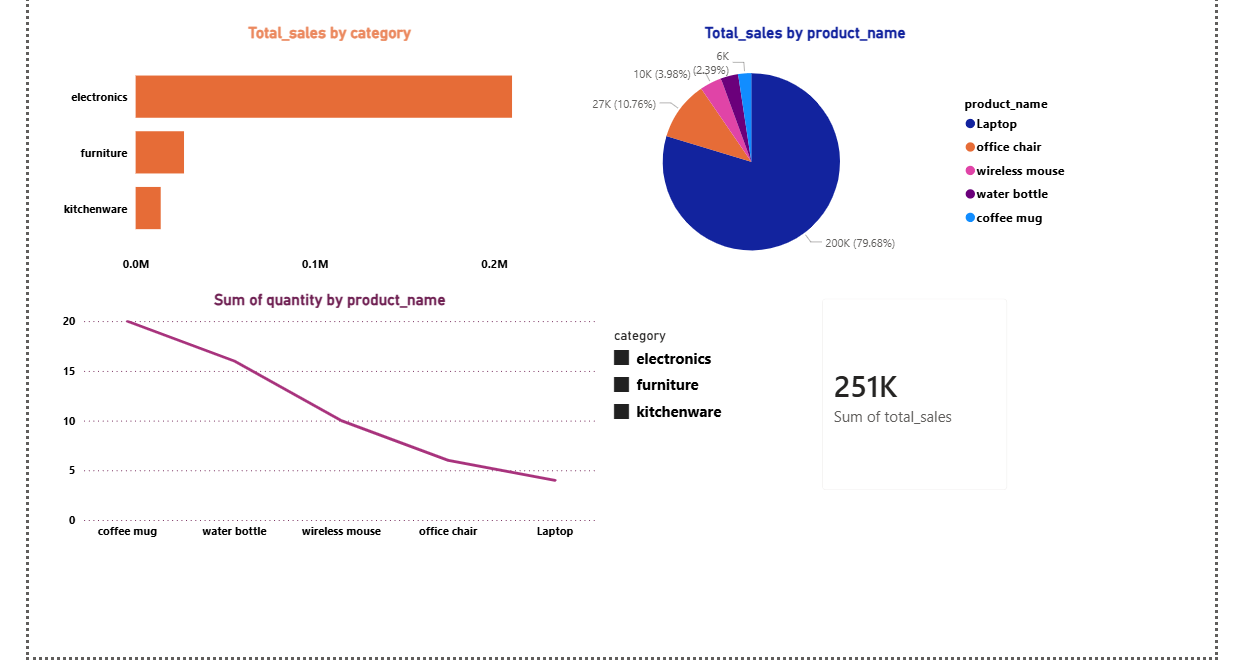

This screenshot's page, from the dashboard's own definition file:
{"tool":"powerbi","page":{"name":"Page 1","canvas":[1280,720],"ordinal":0},"visuals":[{"type":"barChart","title":"Total_sales by category","fields":{"Category":["Sheet1.category"],"Y":["Sum(Sheet1.total_sales)"]},"box":[30.2,35.9,587.7,277.8],"z":0},{"type":"pieChart","title":" Total_sales by product_name","fields":{"Category":["Sheet1.product_name"],"Y":["Sum(Sheet1.total_sales)"]},"box":[544.3,35.9,587.7,279.7],"z":1},{"type":"lineChart","fields":{"Category":["Sheet1.product_name"],"Y":["Sum(Sheet1.quantity)"]},"box":[30,324,588,278],"z":2},{"type":"slicer","fields":{"Values":["Sheet1.category"]},"box":[618,359.1,189,198.4],"z":3},{"type":"cardVisual","fields":{"Data":["Sum(Sheet1.total_sales)"]},"box":[839.1,315.6,234.3,241.9],"z":4}]}

Visuals, with their boxes on the page's 1280x720 design canvas (x1, y1, x2, y2). These are canvas units, not pixel positions in the 1245x664 screenshot, which may show the page scaled, cropped or inside an application window:
"Total_sales by category" barChart: [left=30, top=36, right=618, bottom=314]
" Total_sales by product_name" pieChart: [left=544, top=36, right=1132, bottom=316]
lineChart - Sheet1.product_name x Sum(Sheet1.quantity): [left=30, top=324, right=618, bottom=602]
slicer - Sheet1.category: [left=618, top=359, right=807, bottom=558]
cardVisual - Sum(Sheet1.total_sales): [left=839, top=316, right=1073, bottom=558]
